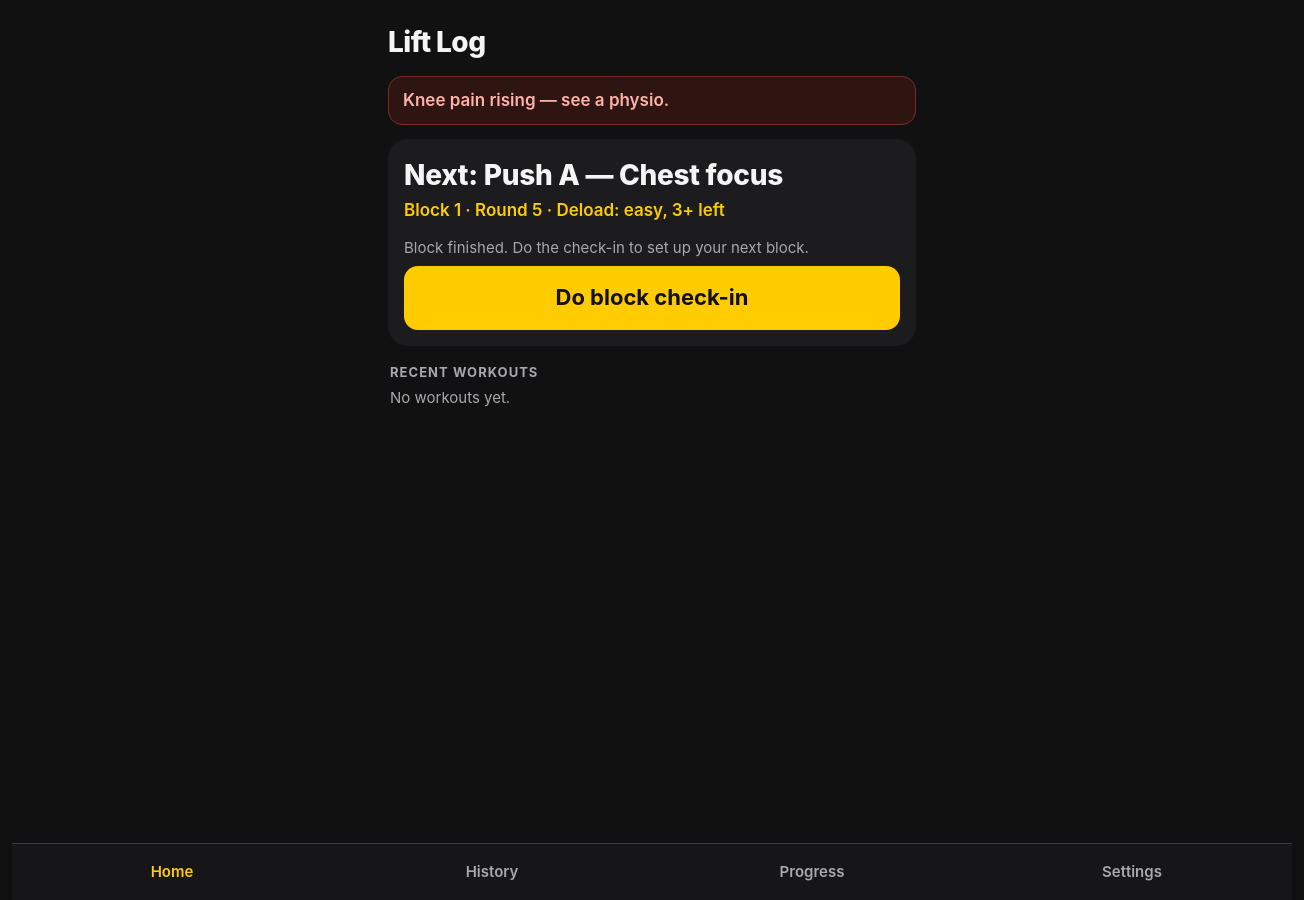
Test: Home › shows the physio banner and check-in button when due
Expected: the text "Knee pain rising — see a physio." is shown, x1=388 y1=76 x2=916 y2=125
Expected: the navigation bar named "Main" is shown, x1=12 y1=843 x2=1292 y2=899
Click the button "Do block check-in" at (652, 298), box x1=404 y1=266 x2=900 y2=330
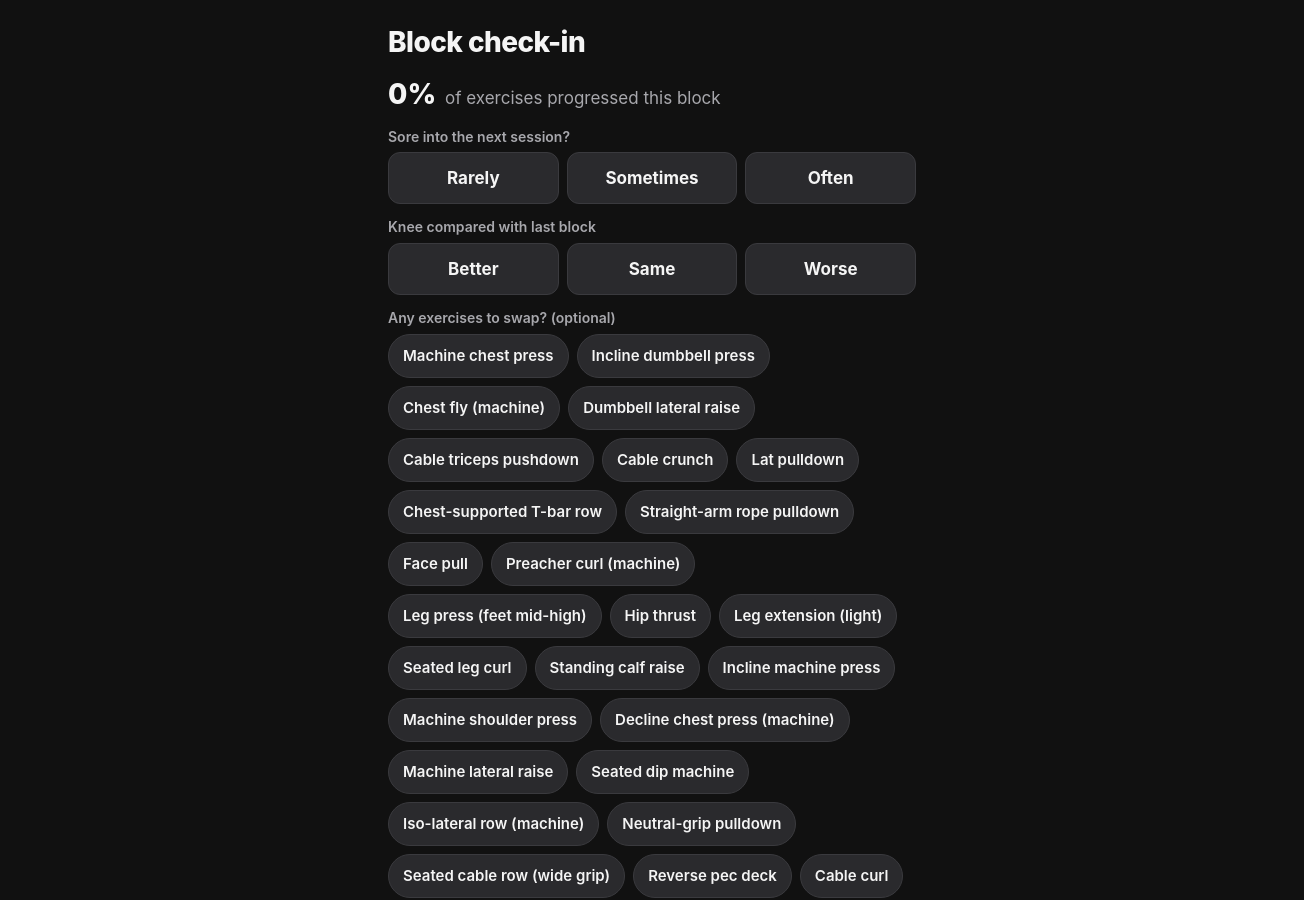
Expected: the heading "Block check-in" is shown, x1=388 y1=25 x2=585 y2=59
Expected: the navigation bar "Main" is gone
